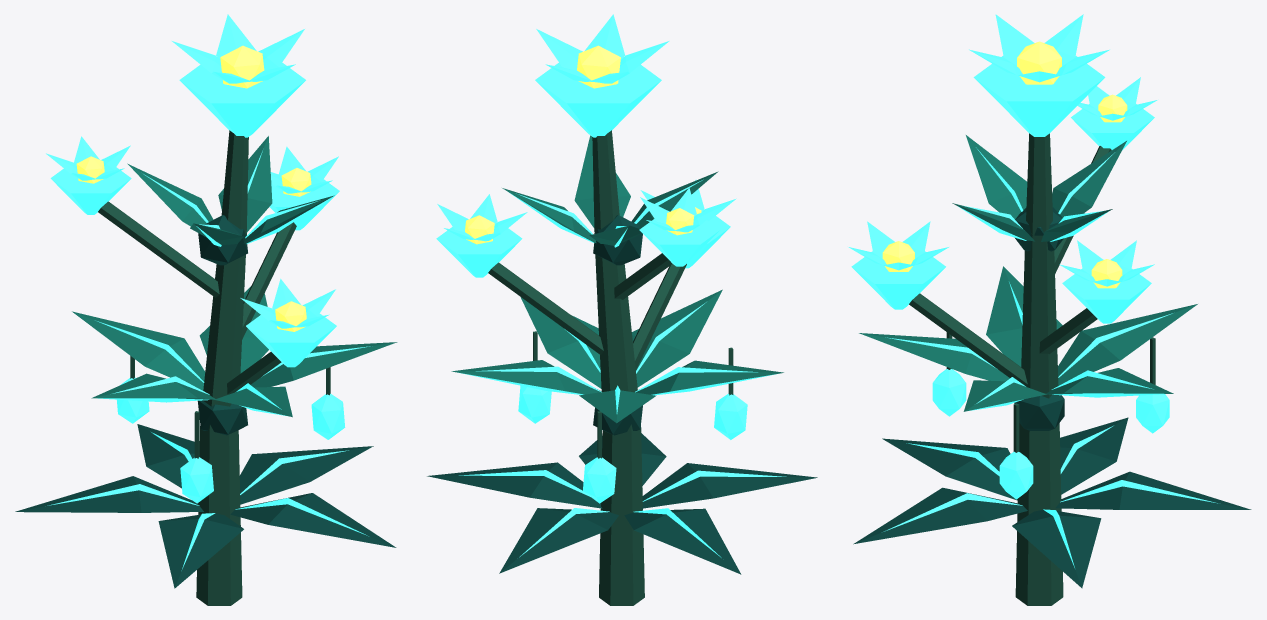
File: cyber_plant_stage3.glb
3 renders of one model, left to right at view 1: azimuth 30°, elevation 25°; view 2: azimuth 150°, elevation 25°; view 3: azimuth 270°, elevation 25°, orthographic. The views are drawn at different scales.
Parts seen in each view (by area): view 1: cyber_plant_stage3; view 2: cyber_plant_stage3; view 3: cyber_plant_stage3.
Part boxes in pixels (left/top/right/bottom): cyber_plant_stage3: left=15, top=14, right=397, bottom=605; cyber_plant_stage3: left=427, top=14, right=817, bottom=605; cyber_plant_stage3: left=848, top=14, right=1251, bottom=605.
Bounding box in the file's own units: 0.5755 × 0.8928 × 0.5755.
